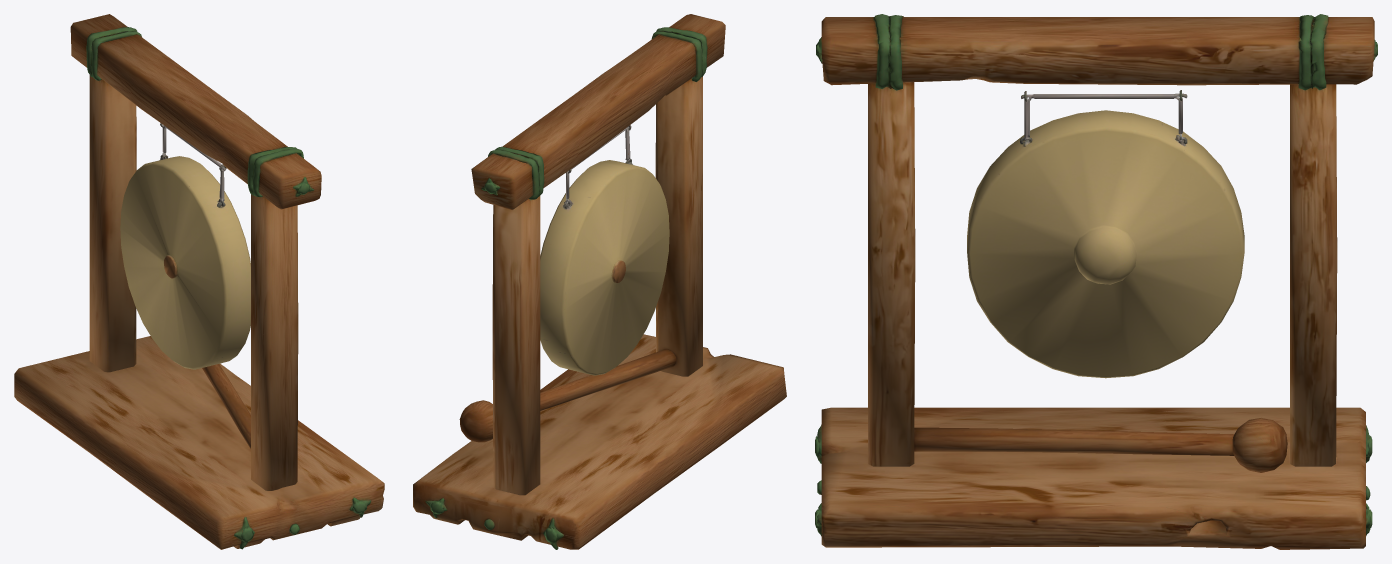
The model's file is ending-alarm.glb.
3 views of the same model, side by side, from view 1: azimuth 30°, elevation 25°; view 2: azimuth 150°, elevation 25°; view 3: azimuth 270°, elevation 25° (orthographic). The views are drawn at different scales.
Visible parts, largest first — view 1: tripo_node_9a4856e8-7d0f-47bf-82f4-7612b526d6f9; view 2: tripo_node_9a4856e8-7d0f-47bf-82f4-7612b526d6f9; view 3: tripo_node_9a4856e8-7d0f-47bf-82f4-7612b526d6f9.
Part boxes in pixels (left/top/right/bottom): tripo_node_9a4856e8-7d0f-47bf-82f4-7612b526d6f9: left=14, top=14, right=384, bottom=549; tripo_node_9a4856e8-7d0f-47bf-82f4-7612b526d6f9: left=413, top=14, right=786, bottom=549; tripo_node_9a4856e8-7d0f-47bf-82f4-7612b526d6f9: left=815, top=14, right=1377, bottom=549.
Size of the model in its own units: 0.4434 by 0.9434 by 0.998.
1 material, 1 textured.
